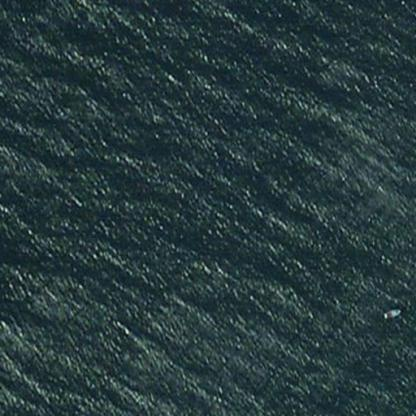ship: (364, 307, 387, 320)
